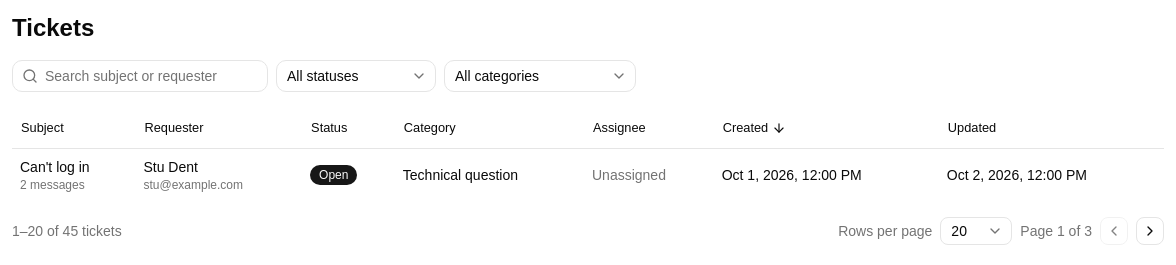
Test: TicketsPage › pages through results
This screenshot has width=1176, height=265.
Check: the text "1–20 of 45 tickets" is shown, box x1=12 y1=220 x2=122 y2=240
Check: the button named "Previous page" is disabled, box x1=1100 y1=216 x2=1128 y2=244
Click the button named "Next page".
click(1150, 230)  # box x1=1136 y1=216 x2=1164 y2=244
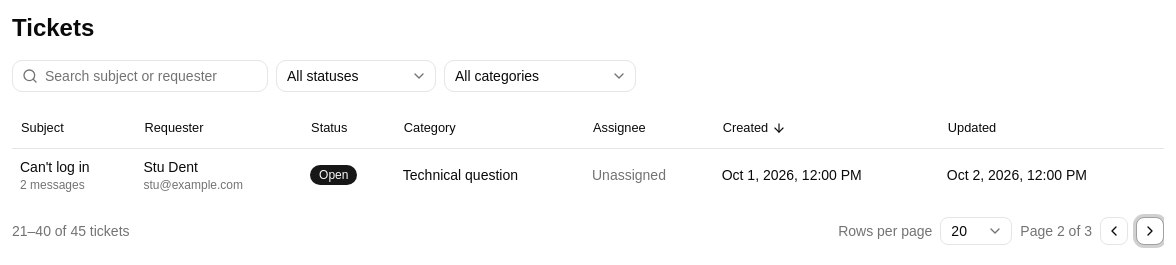
Check: the text "Page 2 of 3" is shown, box x1=1020 y1=220 x2=1092 y2=240
